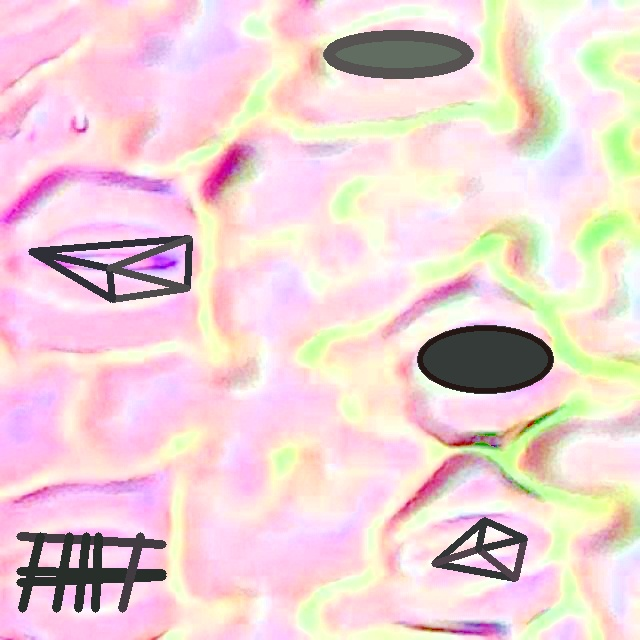close: (17, 532, 165, 611), (323, 31, 473, 77), (431, 518, 526, 580)
open: (28, 235, 190, 302), (418, 326, 552, 393)
